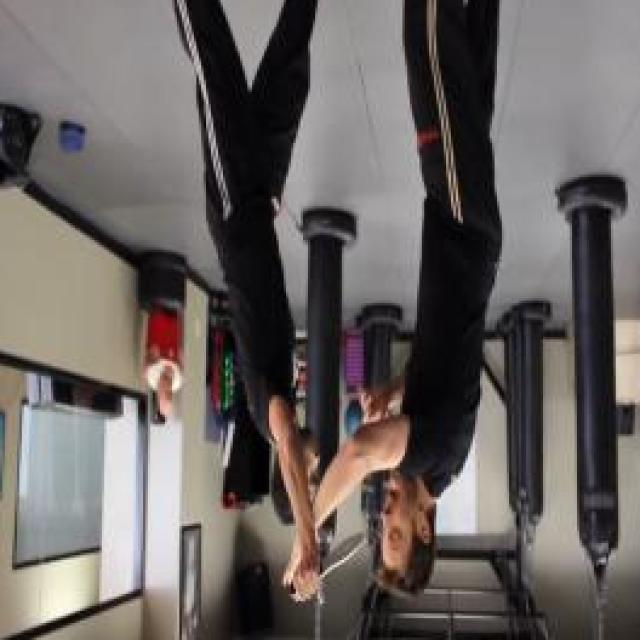knife: (286, 532, 366, 609)
